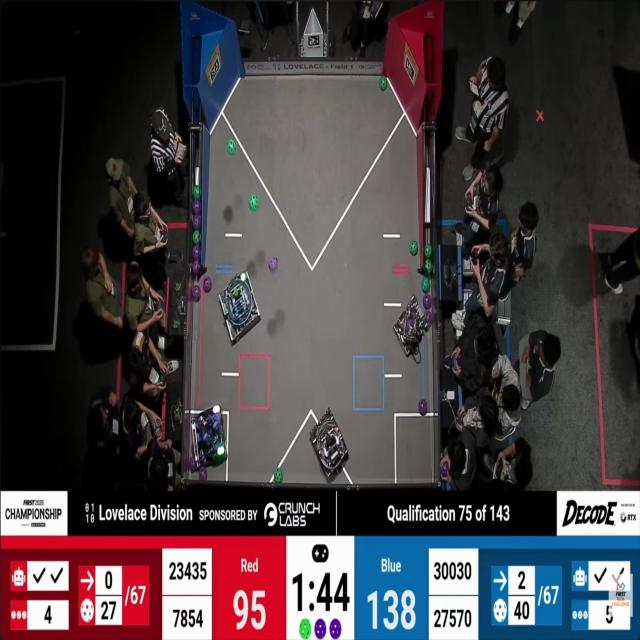artifact_green: (300, 619, 311, 639), (421, 277, 431, 293), (410, 240, 419, 256), (227, 138, 236, 154), (250, 195, 258, 211), (274, 468, 282, 483), (425, 259, 433, 274), (379, 77, 388, 90), (193, 185, 201, 199), (193, 230, 201, 244), (425, 245, 433, 259)
artifact_purple: (315, 619, 326, 639), (330, 619, 341, 639), (203, 276, 212, 294), (192, 260, 200, 279), (419, 399, 427, 416), (193, 285, 201, 302), (189, 456, 198, 471), (269, 258, 278, 272), (193, 214, 201, 229), (442, 462, 450, 477), (423, 294, 431, 309), (452, 355, 459, 372), (193, 245, 200, 260), (199, 467, 207, 480), (193, 200, 200, 214), (425, 311, 432, 325), (407, 319, 414, 328)
